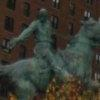Statue: (5, 8, 99, 89)
